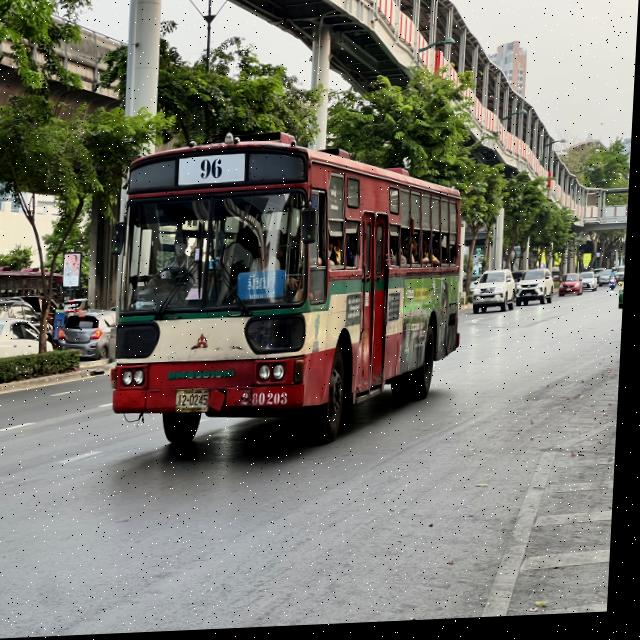BMTA-bus: (102, 119, 477, 467)
Bus Line Number: (192, 154, 235, 188)
Bus Side Number: (243, 391, 295, 413)
Destination Sign: (238, 273, 292, 303)
